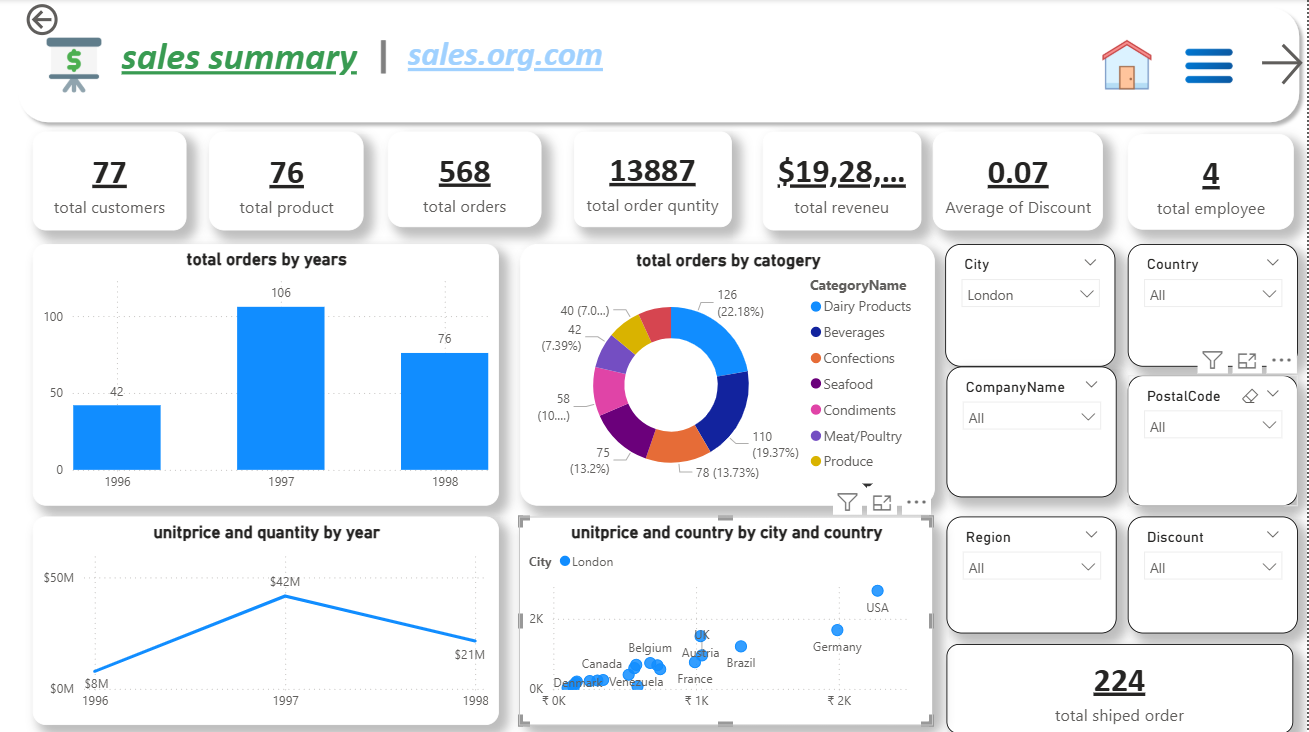

The page's visual inventory and layout, read from the dashboard file:
{"tool":"powerbi","page":{"name":"Page 1","canvas":[1280,720],"ordinal":0},"visuals":[{"type":"shape","box":[10.4,0,1269.2,128.8],"z":0},{"type":"image","box":[30.2,32.9,85.1,63.1],"z":1000},{"type":"textbox","title":"sales summary","box":[115.3,32.9,241.5,48],"z":2000},{"type":"textbox","title":"|","box":[366.4,32.9,28.8,48],"z":3000},{"type":"textbox","title":"sales.org.com","box":[395.2,32.9,208.6,41.2],"z":4000},{"type":"card","fields":{"Values":["Count(Orders.CustomerID)"]},"box":[33.1,129.5,150.2,96.5],"z":5000},{"type":"card","fields":{"Values":["CountNonNull(OrderDetails.OrderID)"]},"box":[380.4,129.5,150.2,93.7],"z":6000},{"type":"card","fields":{"Values":["Count(OrderDetails.ProductID)"]},"box":[205.3,129.5,151.6,96.5],"z":7000},{"type":"card","fields":{"Values":["Sum(OrderDetails.Quantity)"]},"box":[562.3,129.5,154.4,93.7],"z":8000},{"type":"card","fields":{"Values":["OrderDetails.total reveneu"]},"box":[747.2,129.6,155.3,96.6],"z":9000},{"type":"card","fields":{"Values":["Avg(OrderDetails.Discount)"]},"box":[913.7,129.5,166.8,96.5],"z":10000},{"type":"card","fields":{"Values":["Count(Employees.EmployeeID)"]},"box":[1103.9,132.3,162.6,93.7],"z":11000},{"type":"columnChart","title":"total orders by years","fields":{"Category":["Orders.OrderDate.Variation.Date Hierarchy.Year"],"Y":["CountNonNull(Orders.OrderID)"]},"box":[33.1,239.8,456.2,256.3],"z":12000},{"type":"donutChart","title":"total orders by catogery","fields":{"Category":["Categories.CategoryName"],"Y":["CountNonNull(OrderDetails.OrderID)"]},"box":[510.1,240.3,405.7,255.9],"z":13000},{"type":"lineChart","title":"unitprice and quantity by year","fields":{"Category":["Orders.OrderDate.Variation.Date Hierarchy.Year"],"Y":["OrderDetails.total reveneu"]},"box":[33.1,505.8,456.2,204],"z":14000},{"type":"scatterChart","title":"unitprice and country by city and country","fields":{"Y":["Sum(OrderDetails.Quantity)"],"Series":["Employees.City"],"X":["Sum(OrderDetails.UnitPrice)"],"Category":["Orders.ShipCountry"]},"box":[509,506,405,204],"z":15000},{"type":"slicer","fields":{"Values":["Employees.City"]},"box":[926.1,239.8,166.8,119.9],"z":16000},{"type":"slicer","fields":{"Values":["Customers.Country"]},"box":[1103.9,239.8,166.8,119.9],"z":17000},{"type":"slicer","fields":{"Values":["Customers.CompanyName"]},"box":[927.5,359.7,166.8,128.2],"z":18000},{"type":"slicer","fields":{"Values":["Customers.PostalCode"]},"box":[1103.9,368,166.8,128.2],"z":19000},{"type":"slicer","fields":{"Values":["Employees.Region"]},"box":[927.5,505.8,166.8,114.4],"z":20000},{"type":"slicer","fields":{"Values":["OrderDetails.Discount"]},"box":[1103.9,505.8,166.8,114.4],"z":21000},{"type":"card","fields":{"Values":["CountNonNull(Orders.ShipVia)"]},"box":[927.5,631.2,339,88.2],"z":22000},{"type":"image","box":[874.5,505.5,39.2,45],"z":24000},{"type":"image","box":[1142.7,33.6,83.5,62.3],"z":26000},{"type":"image","box":[1061.7,33.6,83.5,59.8],"z":28000},{"type":"actionButton","box":[1228.7,33.6,51.1,59.8],"z":29000},{"type":"actionButton","box":[0,0,100,40],"z":30000}]}

Visuals, with their boxes in screenshot pixels (x1, y1, x2, y2), scaled from the page's 1280x720 canvas onto the 1309x732 screenshot:
shape: region(11, 0, 1308, 131)
image: region(31, 33, 118, 98)
"sales summary" textbox: region(118, 33, 365, 82)
"|" textbox: region(375, 33, 404, 82)
"sales.org.com" textbox: region(404, 33, 617, 75)
card - Count(Orders.CustomerID): region(34, 132, 187, 230)
card - CountNonNull(OrderDetails.OrderID): region(389, 132, 543, 227)
card - Count(OrderDetails.ProductID): region(210, 132, 365, 230)
card - Sum(OrderDetails.Quantity): region(575, 132, 733, 227)
card - OrderDetails.total reveneu: region(764, 132, 923, 230)
card - Avg(OrderDetails.Discount): region(934, 132, 1105, 230)
card - Count(Employees.EmployeeID): region(1129, 135, 1295, 230)
"total orders by years" columnChart: region(34, 244, 500, 504)
"total orders by catogery" donutChart: region(522, 244, 937, 504)
"unitprice and quantity by year" lineChart: region(34, 514, 500, 722)
"unitprice and country by city and country" scatterChart: region(521, 514, 935, 722)
slicer - Employees.City: region(947, 244, 1118, 366)
slicer - Customers.Country: region(1129, 244, 1299, 366)
slicer - Customers.CompanyName: region(949, 366, 1119, 496)
slicer - Customers.PostalCode: region(1129, 374, 1299, 504)
slicer - Employees.Region: region(949, 514, 1119, 631)
slicer - OrderDetails.Discount: region(1129, 514, 1299, 631)
card - CountNonNull(Orders.ShipVia): region(949, 642, 1295, 731)
image: region(894, 514, 934, 560)
image: region(1169, 34, 1254, 97)
image: region(1086, 34, 1171, 95)
actionButton: region(1257, 34, 1308, 95)
actionButton: region(0, 0, 102, 41)
